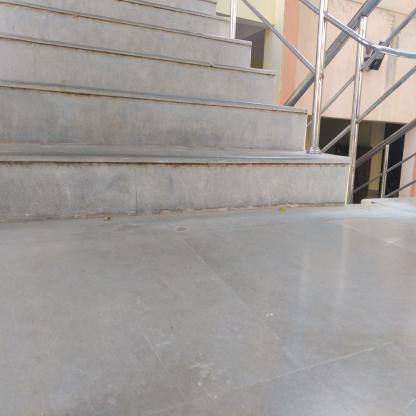stairs: (2, 5, 228, 228)
